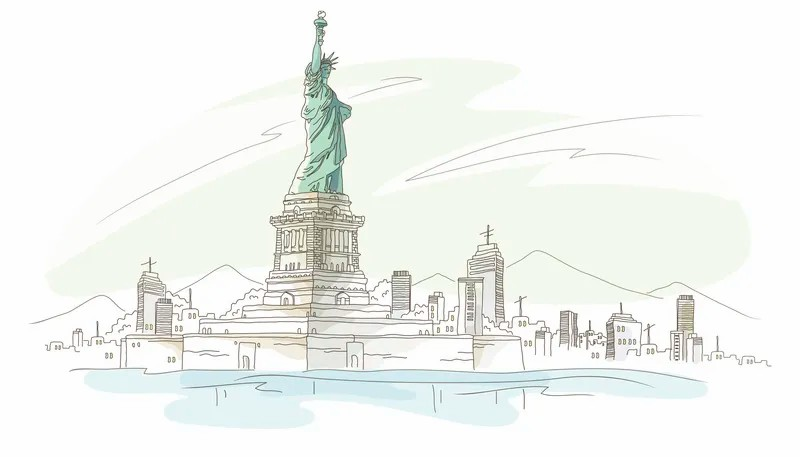SL: (263, 11, 370, 304)
